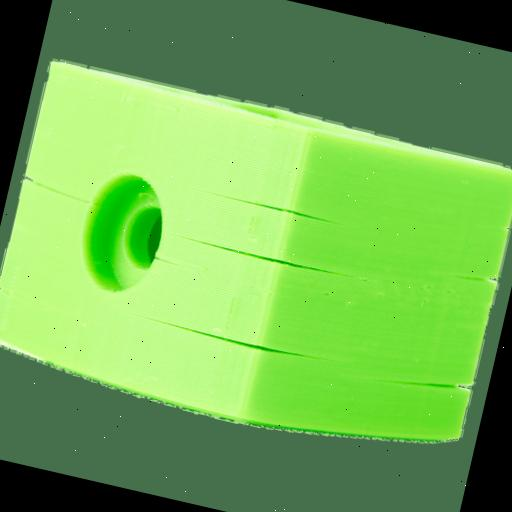cracks: (150, 168, 360, 392), (368, 241, 512, 441), (26, 162, 105, 232)
